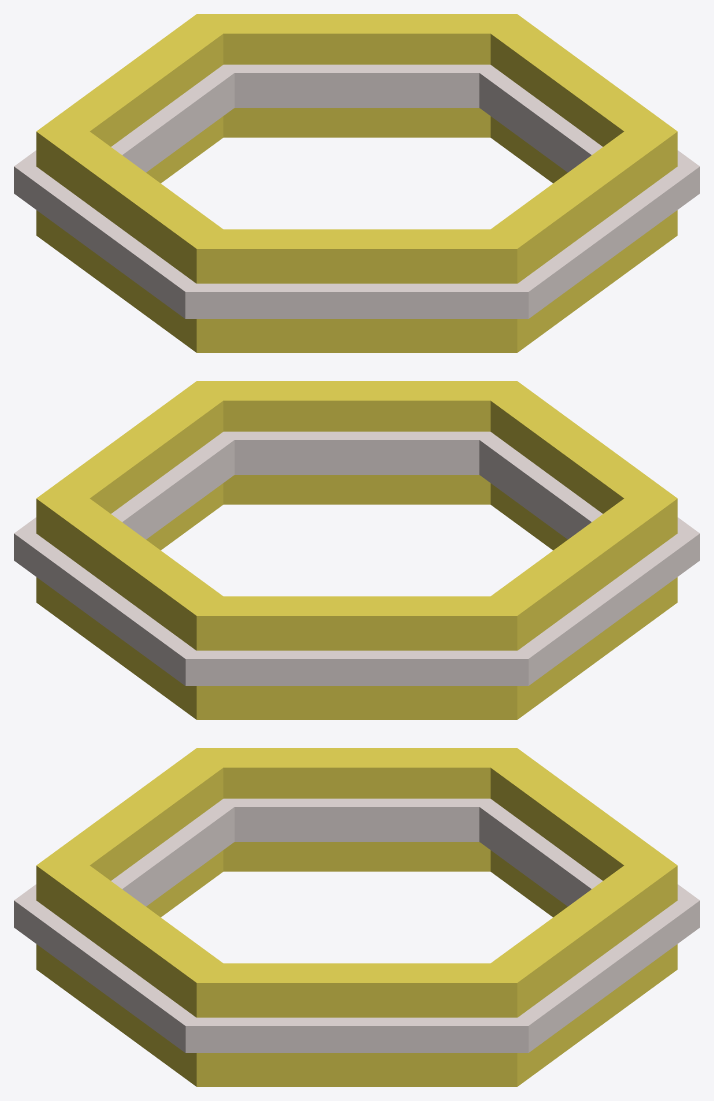
File: coleccionable-bueno1-halo.fbx
The picture shows the model from 3 angles, top to bottom: view 1: azimuth 30°, elevation 25°; view 2: azimuth 150°, elevation 25°; view 3: azimuth 270°, elevation 25°; orthographic projection.
Parts seen in each view (by area): view 1: Model; view 2: Model; view 3: Model.
Boxes of the visible parts, x1=… form: Model: x1=14, y1=14, x2=699, y2=352; Model: x1=14, y1=381, x2=699, y2=719; Model: x1=14, y1=748, x2=699, y2=1086.
Size of the model in its own units: 38.5 by 7.44 by 44.46.
